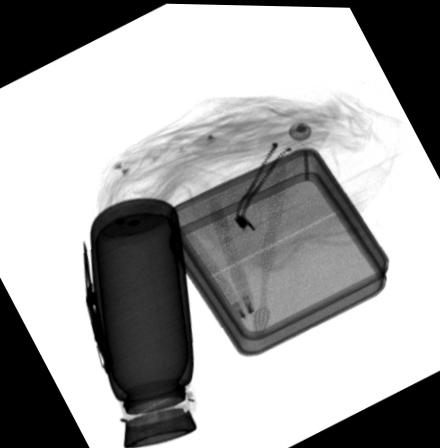Knife: (81, 236, 113, 374)
